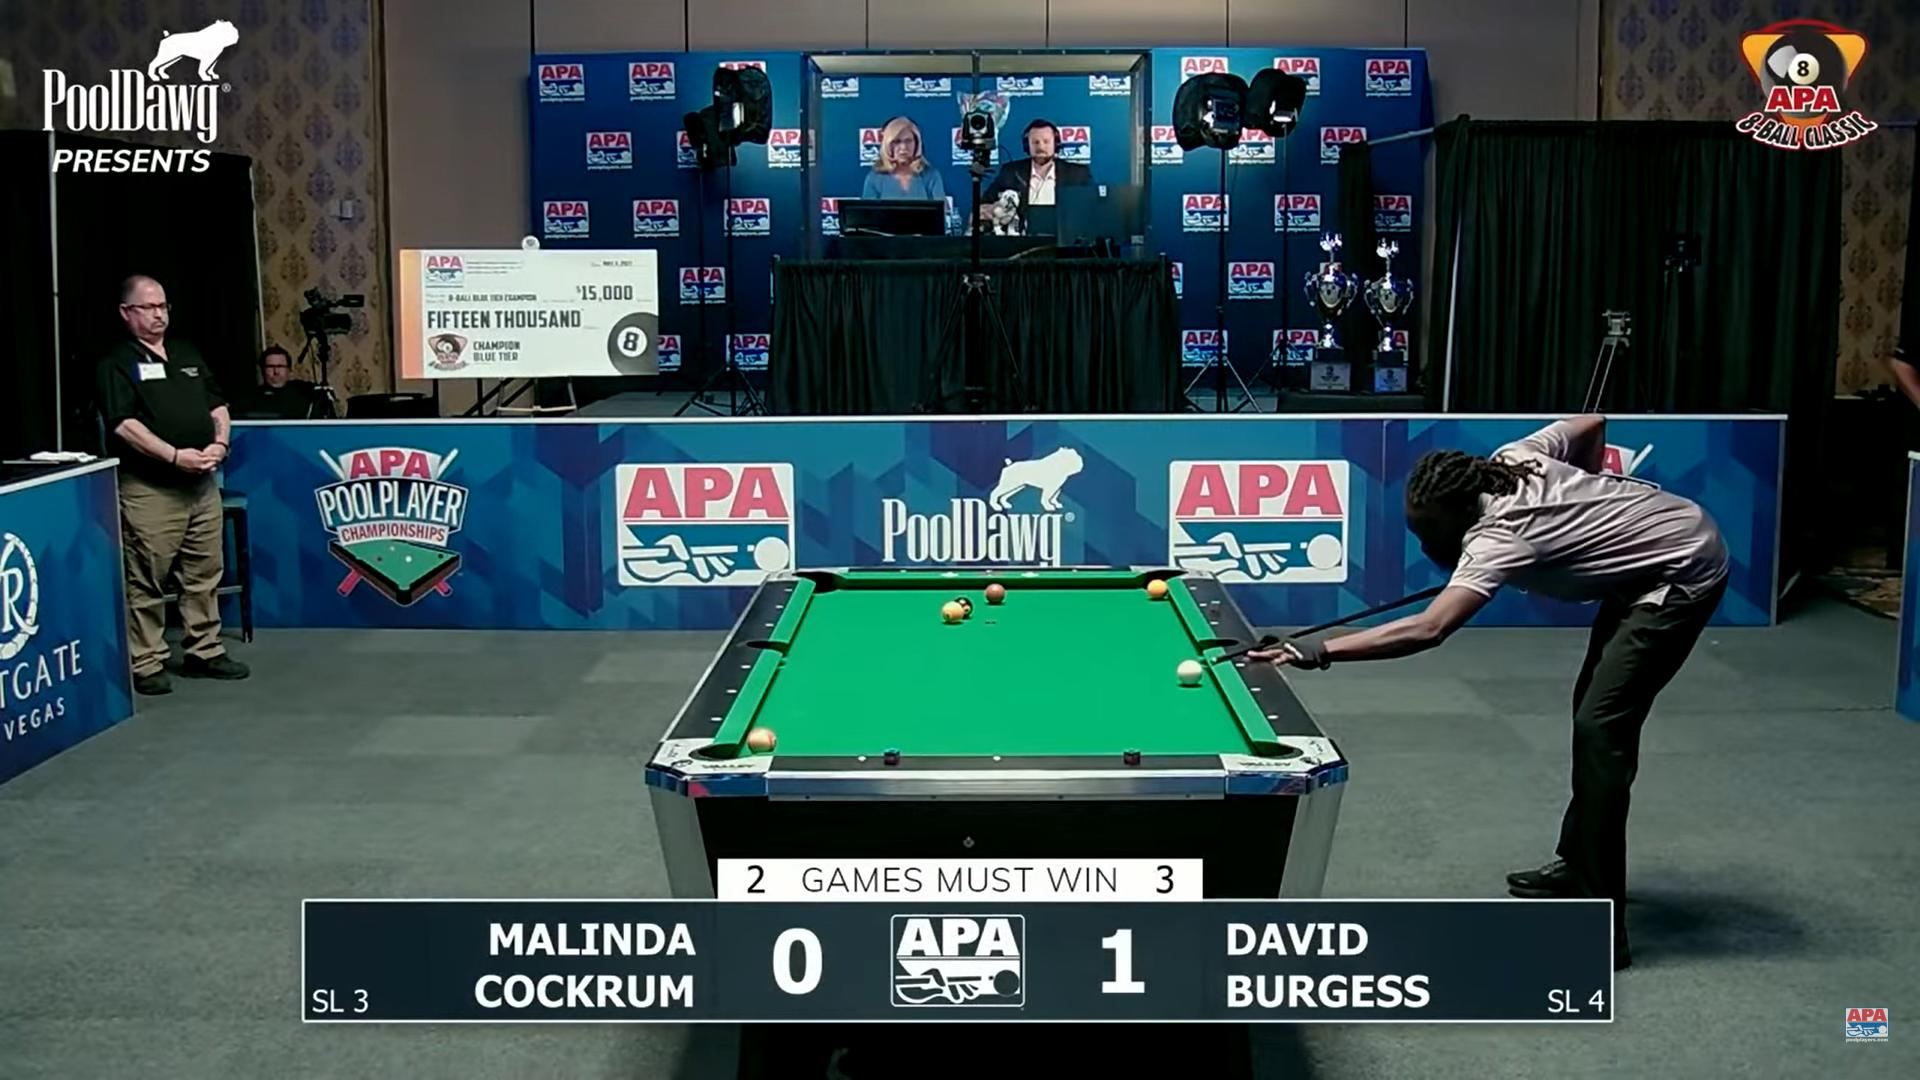Black: (955, 597, 973, 618)
Cue: (1178, 659, 1204, 684)
Dot: (724, 684, 741, 700), (709, 711, 725, 727), (738, 658, 754, 674), (1267, 711, 1280, 724), (1234, 658, 1247, 671), (1250, 683, 1262, 696), (1209, 618, 1220, 629), (774, 601, 785, 612), (765, 621, 775, 630), (783, 585, 793, 596), (1199, 600, 1208, 609), (1188, 584, 1197, 593), (857, 756, 866, 764), (993, 754, 1001, 764), (899, 567, 907, 575), (985, 567, 993, 575), (1071, 567, 1079, 575)
Solid: (942, 601, 964, 622), (1147, 579, 1168, 597), (985, 584, 1006, 603)
Striped: (748, 728, 778, 753)
